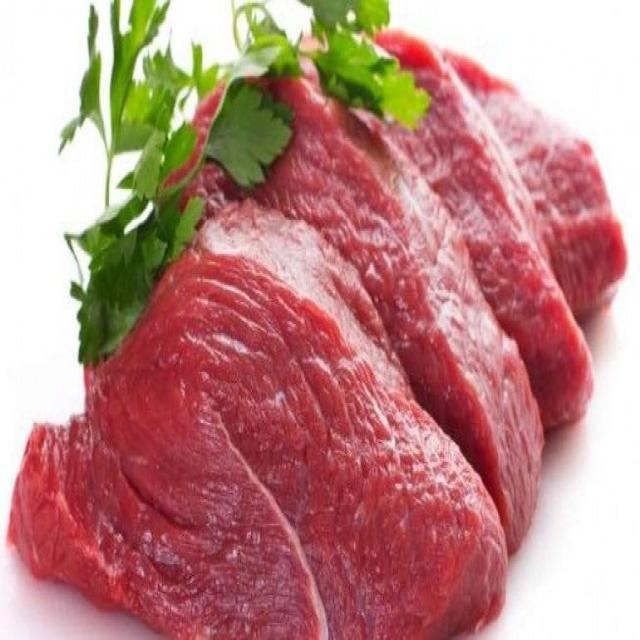beef: (4, 226, 506, 640), (151, 42, 546, 560), (291, 11, 598, 458), (413, 45, 634, 305)
